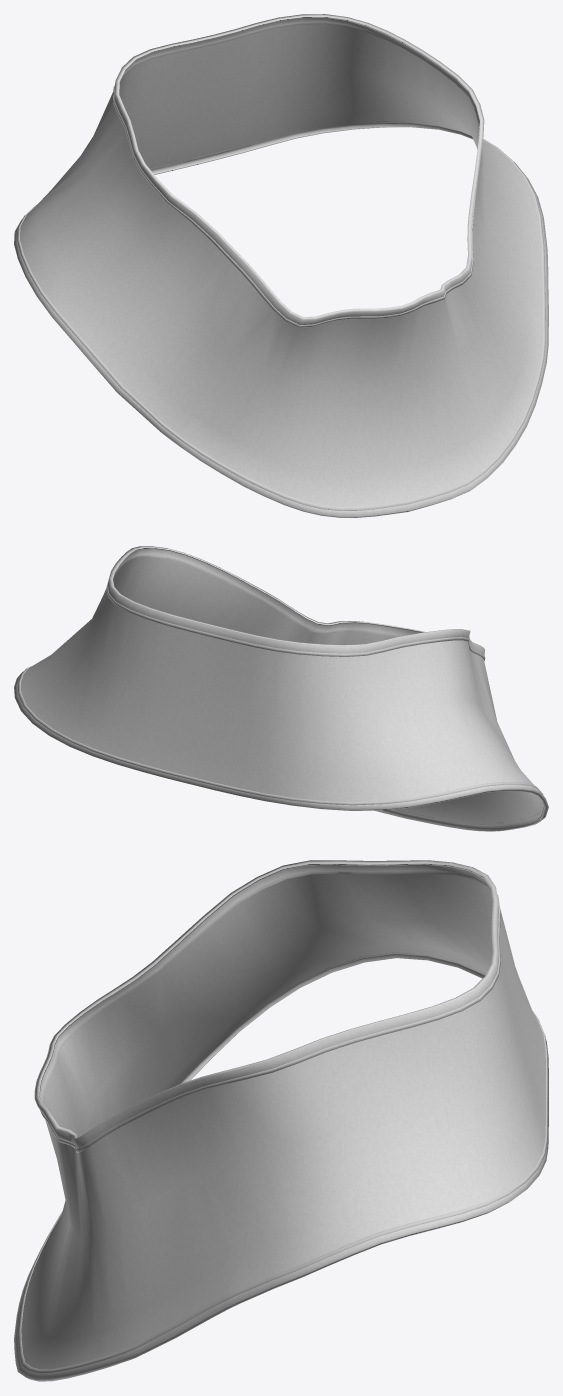
The model's file is Jac_Col.glb.
3 views of the same model, one above another, from view 1: azimuth 30°, elevation 25°; view 2: azimuth 150°, elevation 25°; view 3: azimuth 270°, elevation 25° (orthographic). The views are drawn at different scales.
Visible parts, largest first — view 1: Jac_Col1, Rope1; view 2: Jac_Col1, Rope1; view 3: Jac_Col1, Rope1.
Part boxes in pixels (x1,y1,x2,y2): Jac_Col1: (14, 14, 548, 517); Rope1: (17, 21, 545, 510); Jac_Col1: (14, 546, 548, 831); Rope1: (17, 554, 543, 825); Jac_Col1: (14, 860, 548, 1381); Rope1: (17, 870, 547, 1373).
Size of the model in its own units: 0.3025 by 0.1988 by 0.2316.
2 materials, 2 textured.
